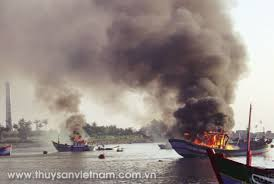tau_dansu: (165, 119, 269, 158), (205, 146, 263, 184), (51, 132, 94, 157)
